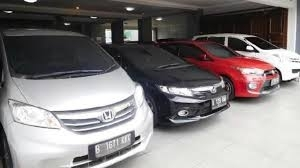plate: (95, 135, 131, 154)
